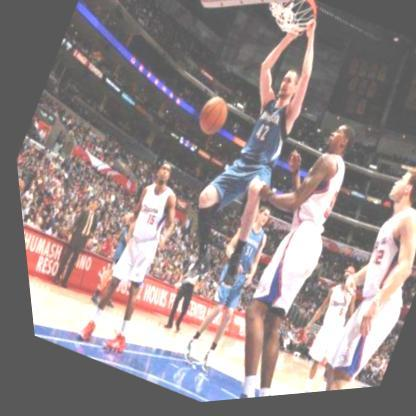basketball: (188, 94, 232, 144)
